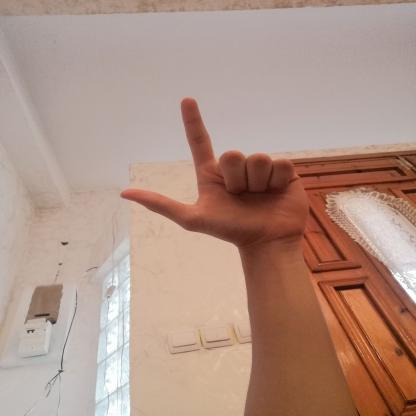LAAM: (102, 83, 326, 256)
